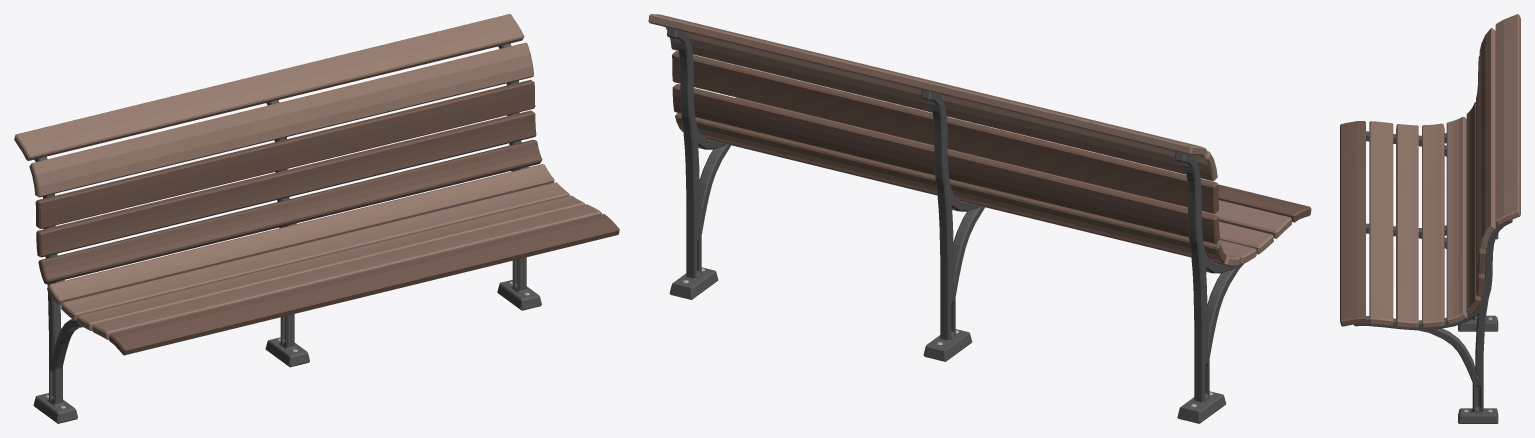
The picture shows the model from 3 angles, left to right: view 1: azimuth 30°, elevation 25°; view 2: azimuth 150°, elevation 25°; view 3: azimuth 270°, elevation 25°; orthographic projection. The views are drawn at different scales.
Visible parts, largest first — view 1: Cube.008, BézierCurve.002; view 2: Cube.008, BézierCurve.002; view 3: Cube.008, BézierCurve.002.
Boxes of the visible parts, x1,y1,x2,y2 form: Cube.008: [14, 14, 619, 355]; BézierCurve.002: [33, 43, 541, 423]; Cube.008: [648, 14, 1311, 266]; BézierCurve.002: [667, 28, 1243, 423]; Cube.008: [1340, 14, 1520, 327]; BézierCurve.002: [1354, 131, 1512, 423].
Bounding box in the file's own units: 1.91 × 0.9732 × 0.7392.
Materials: 2 (2 with a texture image).
